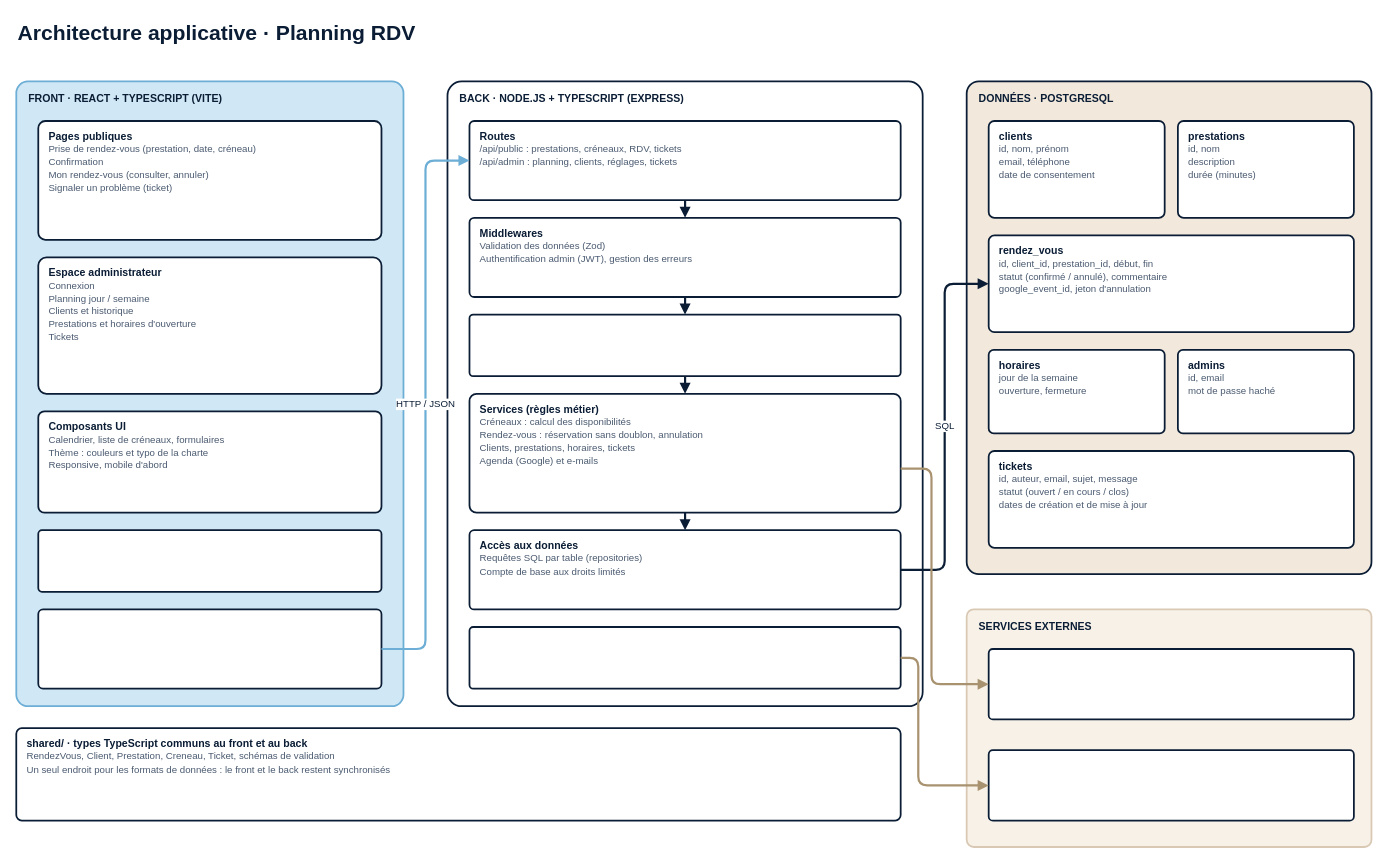
Image size: 1387x862. Some labels were removed from this diagram. Each missing label, with the centre of its shape:
Client API Appels fetch vers /api Gestion du jeton admin et des erreurs: (209,648)
Contrôleurs Lisent la requête, appellent le service, renvoient le JSON: (684,345)
Google Calendar API Création, modification et lecture des créneaux occupés: (1170,684)
Routage React Router : routes publiques et routes admin protégées: (209,560)
Service d'e-mails (SMTP) Confirmation, rappel, annulation, suivi des tickets: (1170,785)
Tâches planifiées Rappel J-1 par e-mail, purge RGPD des anciennes données: (684,657)
